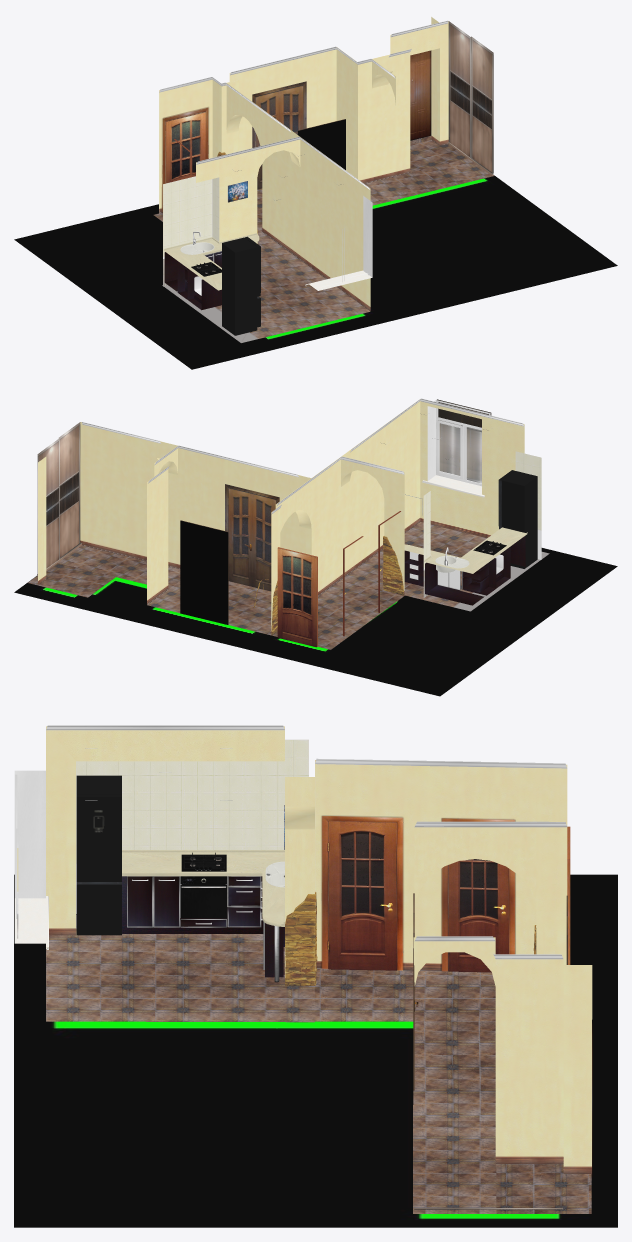
File: apartment.glb
The picture shows the model from 3 angles, top to bottom: view 1: azimuth 30°, elevation 25°; view 2: azimuth 150°, elevation 25°; view 3: azimuth 270°, elevation 25°; orthographic projection. The views are drawn at different scales.
Parts seen in each view (by area): view 1: allowedSpacePlane, kitchenWalls, corridorWalls, kitchenFloor, corridorCloset, floor.001, fridgeCase, bigRoomDoor, entranceDoor, ceiling, mainKitchenSurface, mainSurface.005 (+3 smaller); view 2: corridorWalls, kitchenWalls, allowedSpacePlane, floor.001, corridorCloset, bigRoomDoor, kitchenFloor, fridgeCase, mainSurface.005, corrdorLabDoubleLeafedDoorLeft, corrdorLabDoubleLeafedDoorRight, corrdorBedroomDoubleLeafedDoorLeft (+3 smaller); view 3: allowedSpacePlane, corridorWalls, kitchenWalls, floor.001, kitchenFloor, toiletDoor, bathroomDoor, mainKitchenSurface, ceiling, fridgeUpperDoor, fridgeUpperDoor.001, mainSurface.005 (+6 smaller).
Part boxes in pixels (x1=…): allowedSpacePlane: x1=14, y1=174, x2=617, y2=369; kitchenWalls: x1=163, y1=83, x2=372, y2=311; corridorWalls: x1=159, y1=17, x2=448, y2=213; kitchenFloor: x1=162, y1=253, x2=369, y2=343; corridorCloset: x1=448, y1=21, x2=493, y2=175; floor.001: x1=153, y1=135, x2=494, y2=260; fridgeCase: x1=222, y1=237, x2=257, y2=335; bigRoomDoor: x1=166, y1=112, x2=205, y2=183; entranceDoor: x1=410, y1=50, x2=431, y2=140; ceiling: x1=159, y1=20, x2=448, y2=200; mainKitchenSurface: x1=163, y1=233, x2=259, y2=290; mainSurface.005: x1=164, y1=252, x2=221, y2=310; corridorWalls: x1=38, y1=422, x2=404, y2=635; kitchenWalls: x1=275, y1=399, x2=541, y2=597; allowedSpacePlane: x1=14, y1=548, x2=617, y2=696; floor.001: x1=28, y1=545, x2=404, y2=649; corridorCloset: x1=37, y1=422, x2=82, y2=574; bigRoomDoor: x1=277, y1=547, x2=317, y2=647; kitchenFloor: x1=341, y1=522, x2=549, y2=611; fridgeCase: x1=502, y1=471, x2=537, y2=568; mainSurface.005: x1=404, y1=536, x2=525, y2=605; corrdorLabDoubleLeafedDoorLeft: x1=204, y1=526, x2=228, y2=624; corrdorLabDoubleLeafedDoorRight: x1=180, y1=520, x2=204, y2=618; corrdorBedroomDoubleLeafedDoorLeft: x1=228, y1=488, x2=252, y2=586; allowedSpacePlane: x1=14, y1=874, x2=617, y2=1227; corridorWalls: x1=315, y1=760, x2=592, y2=1173; kitchenWalls: x1=14, y1=726, x2=315, y2=986; floor.001: x1=315, y1=969, x2=591, y2=1213; kitchenFloor: x1=46, y1=914, x2=314, y2=1022; toiletDoor: x1=328, y1=821, x2=396, y2=970; bathroomDoor: x1=448, y1=859, x2=508, y2=972; mainKitchenSurface: x1=122, y1=850, x2=284, y2=926; ceiling: x1=46, y1=725, x2=567, y2=959; fridgeUpperDoor: x1=76, y1=794, x2=121, y2=880; fridgeUpperDoor.001: x1=76, y1=882, x2=121, y2=932; mainSurface.005: x1=122, y1=876, x2=284, y2=977.
Size of the model in its own units: 10.72 by 3.11 by 7.75.
Materials: 15 (15 with a texture image).
